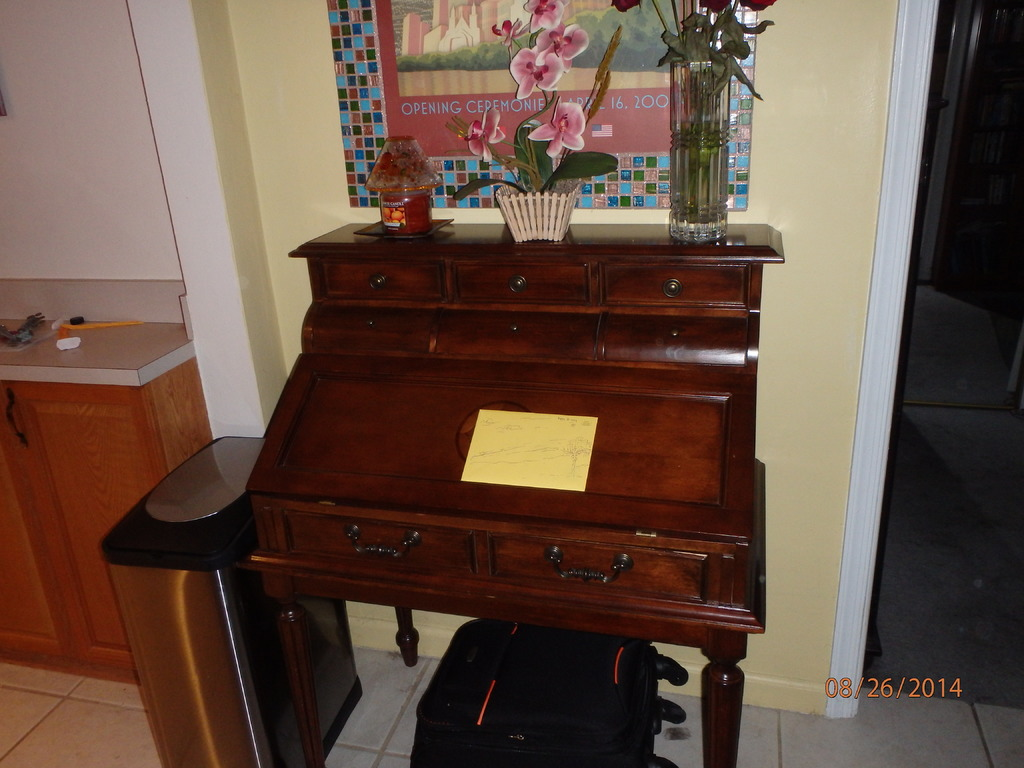cabinet door: (20, 393, 137, 660), (500, 539, 702, 596), (286, 513, 479, 566), (609, 260, 750, 300), (472, 260, 577, 298), (328, 258, 430, 290)
handle: (551, 556, 625, 591), (351, 538, 414, 564), (1, 394, 28, 450), (666, 276, 686, 300), (506, 268, 530, 287), (364, 271, 386, 287)
